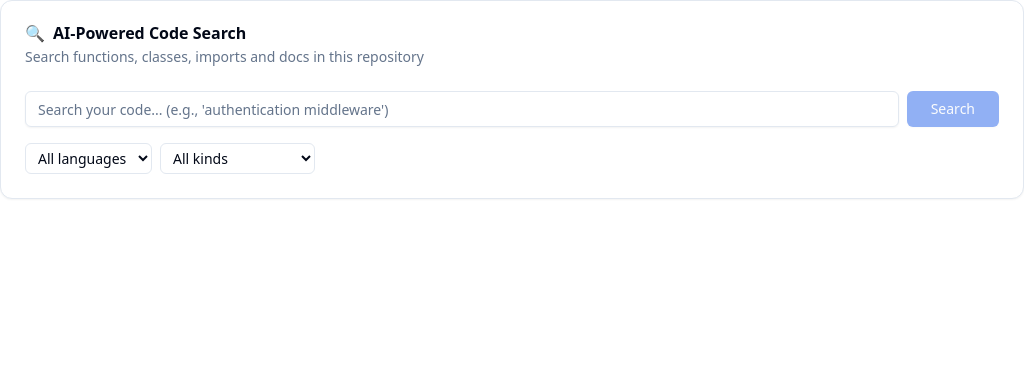
Test: SearchInterface suggestions from the keyboard › moves with the arrows, searches the pick on Enter and closes on Escape
In the dropdown named "search query": coordinates (462, 109) [25,91,899,127], type "deb"
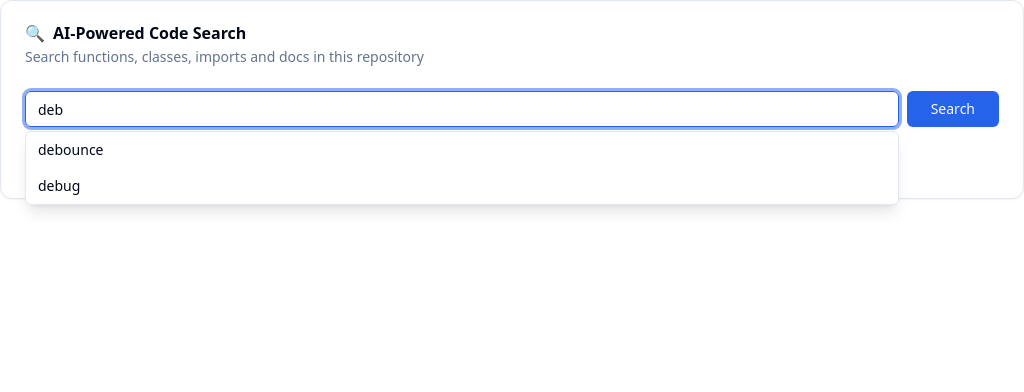
Check: the list is shown, box [25,131,899,205]
Press Arrowdown Arrowdown
Press Arrowdown
Press Escape
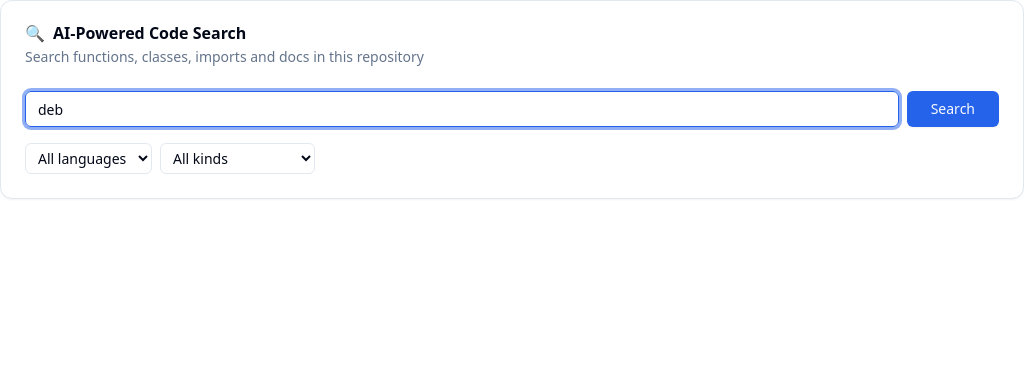
Check: the list is gone
In the dropdown named "search query": coordinates (462, 109) [25,91,899,127], type "u"
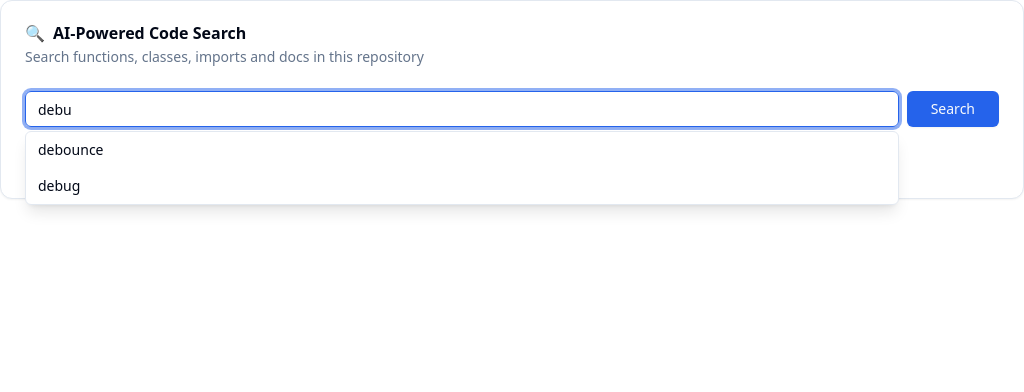
Check: the list is shown, box [25,131,899,205]
Press Arrowup Enter
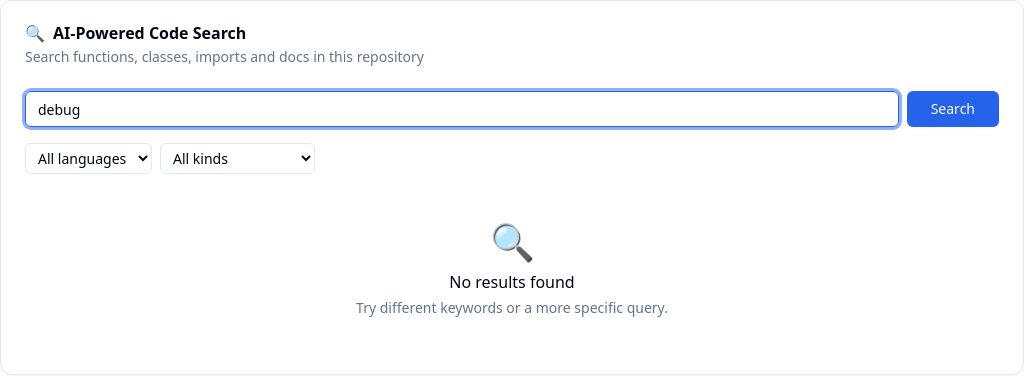
Check: the dropdown named "search query" holds "debug", box [25,91,899,127]
